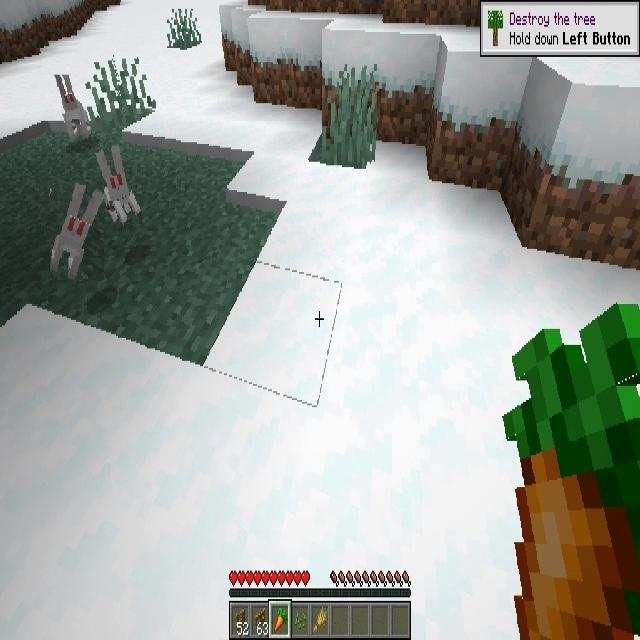rabbit: (50, 182, 104, 280), (96, 144, 140, 225), (55, 75, 91, 141)
